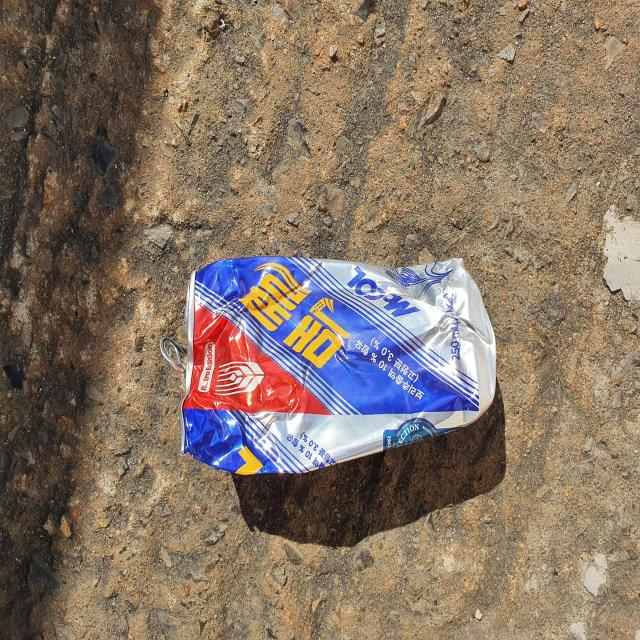can: (160, 256, 497, 475)
